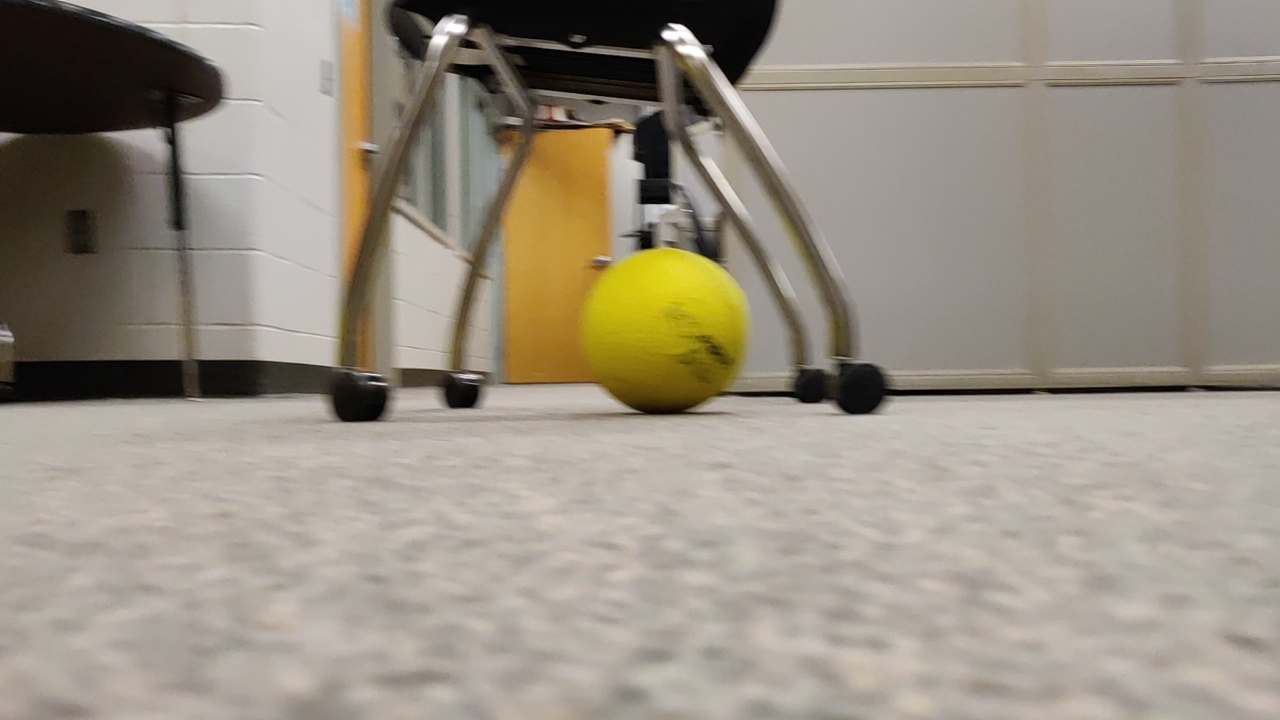Ball: (583, 242, 765, 432)
